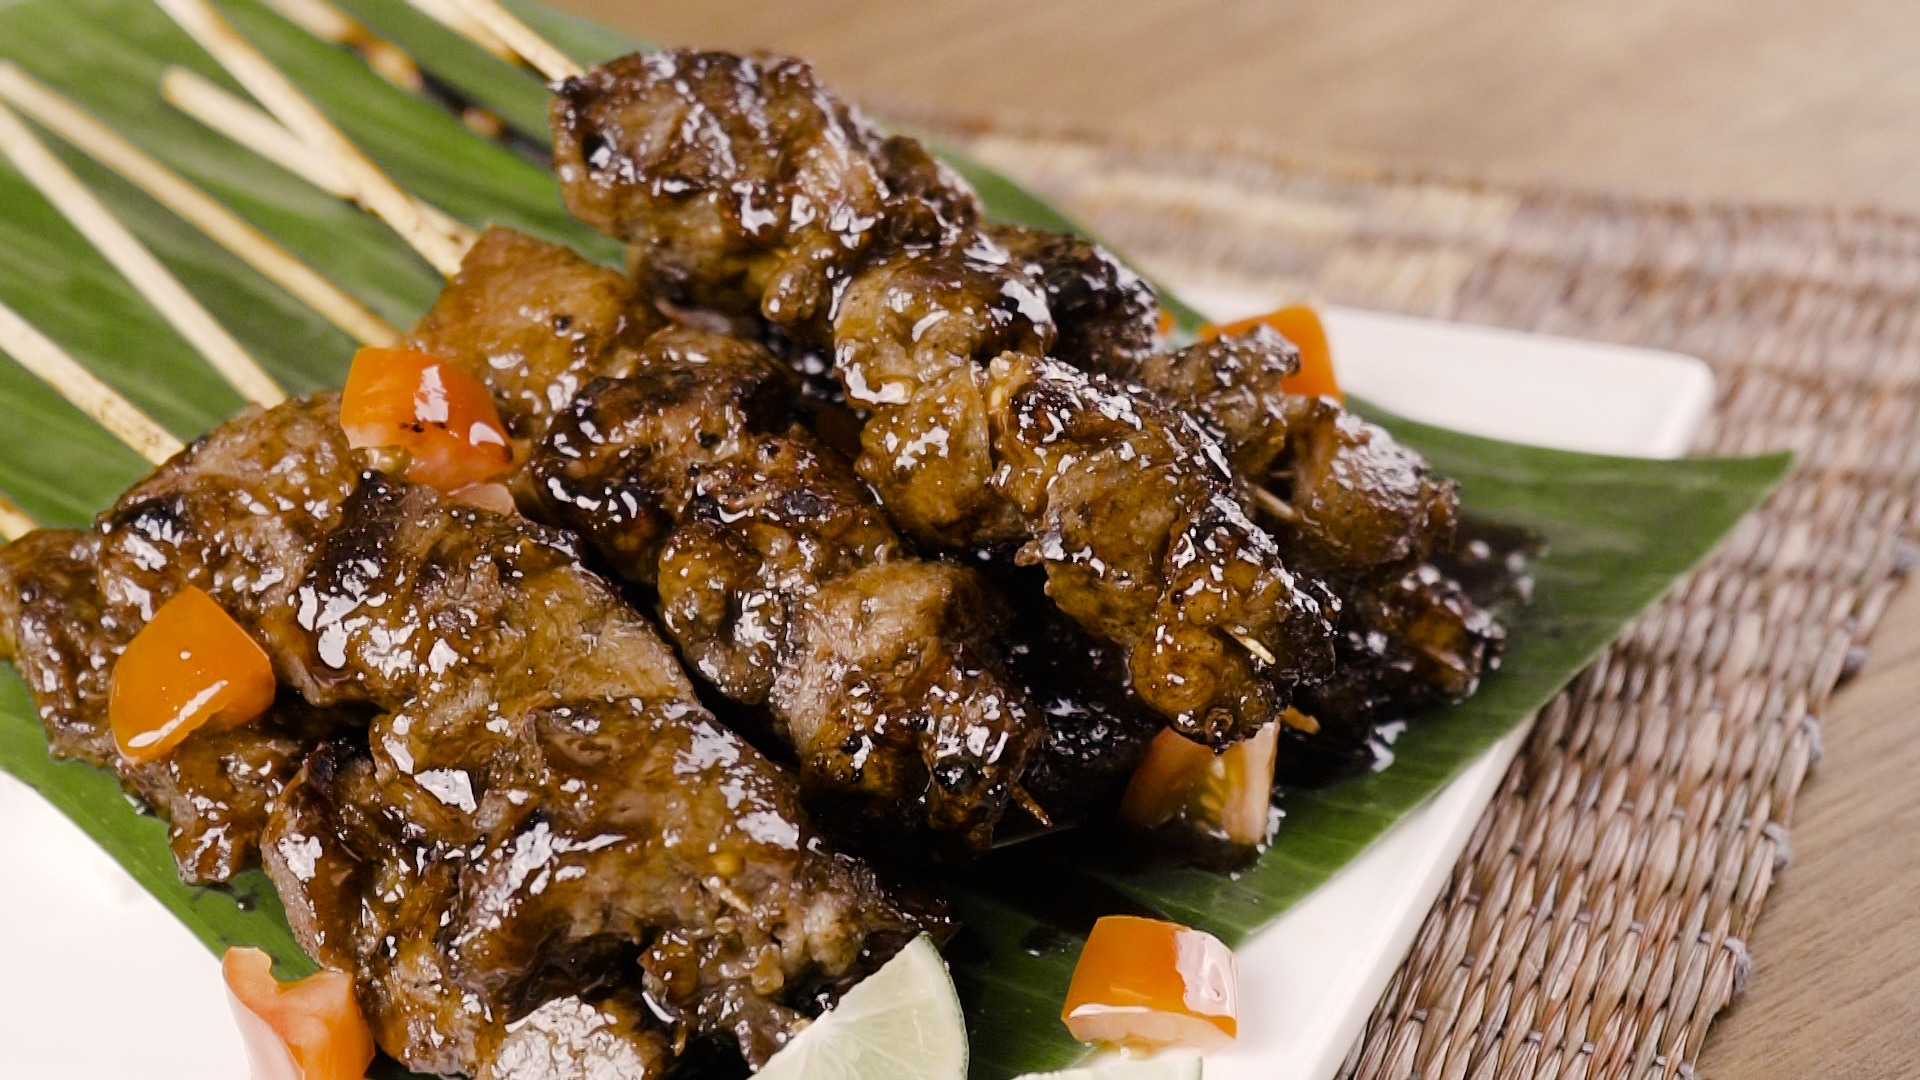sate: (11, 25, 1726, 1080)
